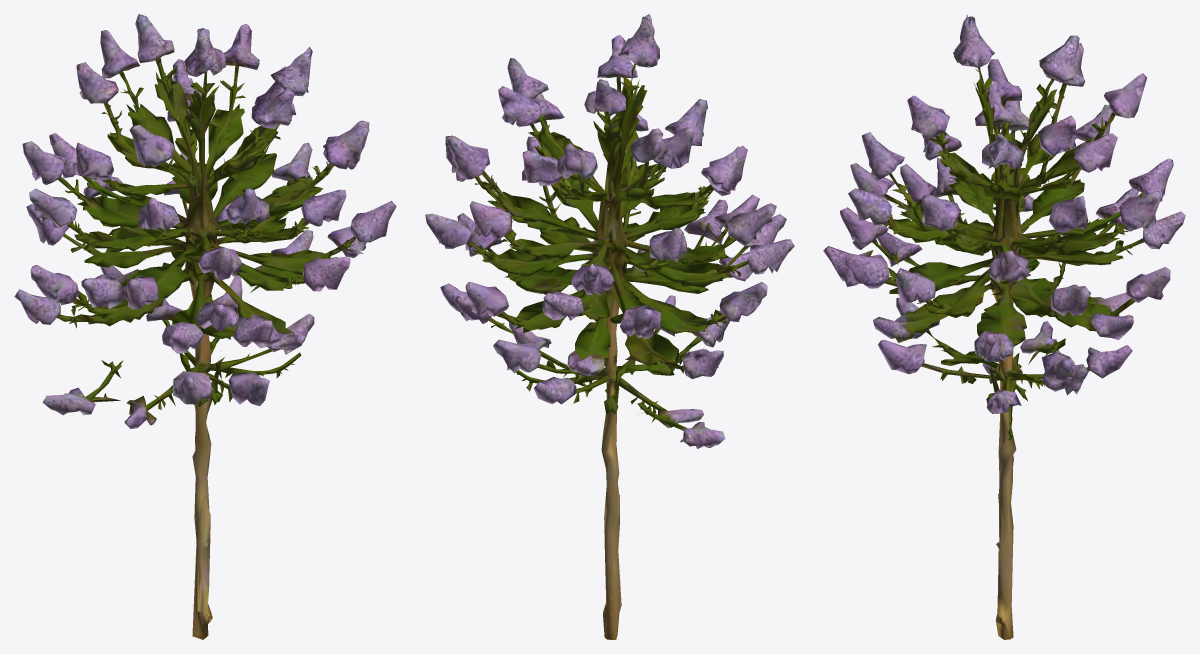
The model's file is ZiWei.glb.
3 views of the same model, side by side, from view 1: azimuth 30°, elevation 25°; view 2: azimuth 150°, elevation 25°; view 3: azimuth 270°, elevation 25° (orthographic). The views are drawn at different scales.
Visible parts, largest first — view 1: tripo_node_11f93332-88ec-4f50-85ad-615b26430f87; view 2: tripo_node_11f93332-88ec-4f50-85ad-615b26430f87; view 3: tripo_node_11f93332-88ec-4f50-85ad-615b26430f87.
Part boxes in pixels (x1,y1,x2,y2): tripo_node_11f93332-88ec-4f50-85ad-615b26430f87: (14, 14, 396, 639); tripo_node_11f93332-88ec-4f50-85ad-615b26430f87: (425, 14, 794, 639); tripo_node_11f93332-88ec-4f50-85ad-615b26430f87: (823, 14, 1185, 639).
Bounding box in the file's own units: 0.5535 × 0.9775 × 0.5234.
Materials: 1 (1 with a texture image).
